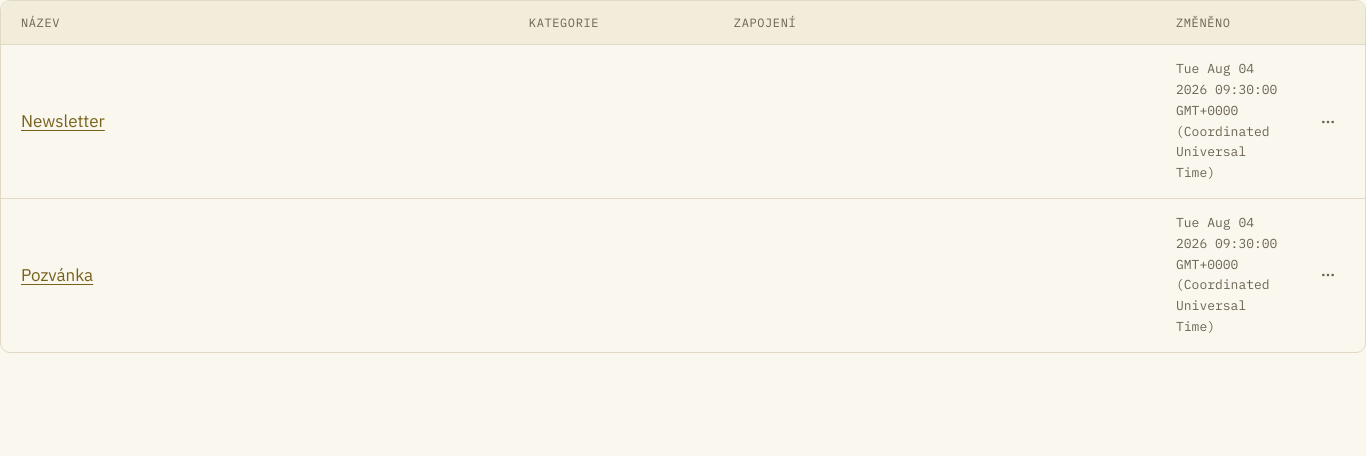
nabídka „…" v řádku knihovny › neúspěšná kopie řekne důvod na obrazovce a nikam neodchází
Click the button named "Další akce se šablonou". click: x=1328, y=122
box: [1311,105,1345,139]
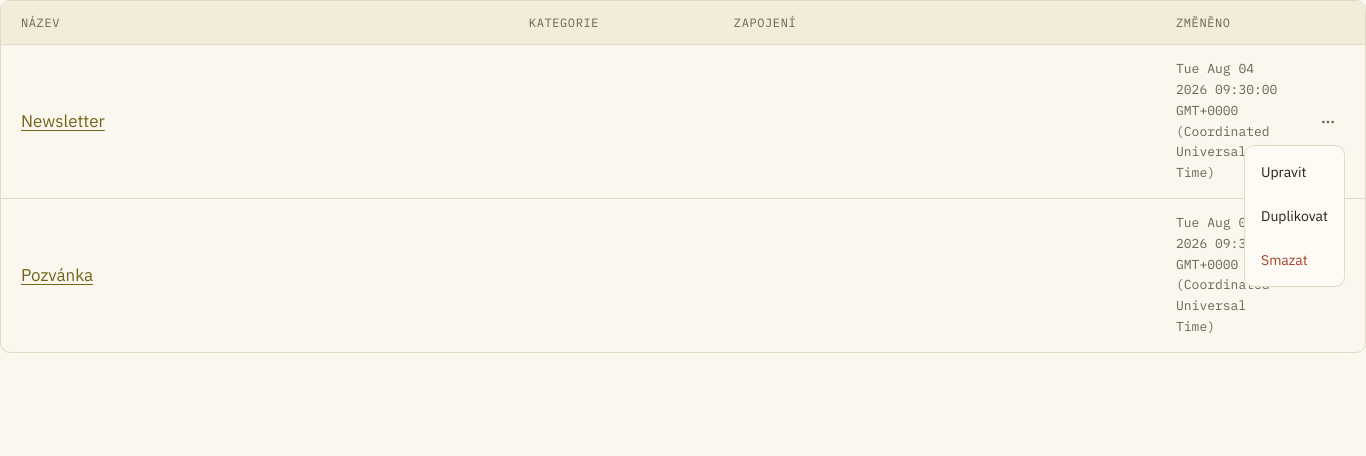
Click the menu item "Duplikovat". click: x=1294, y=216
box: [1261,207,1328,225]
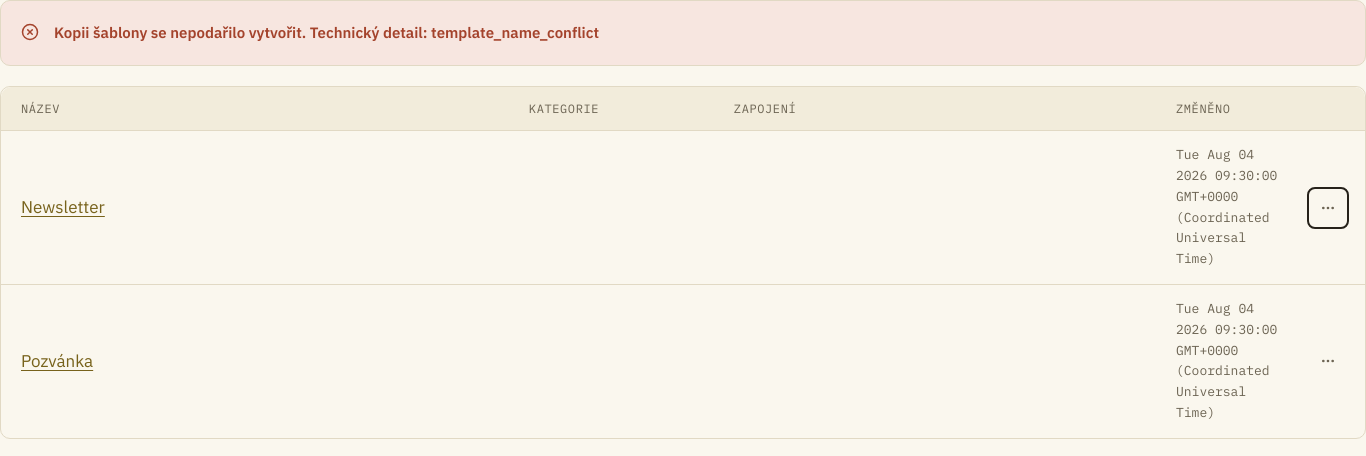
Result: the message with test id "template-delete-failed" shows "template_name_conflict" at [54,23,599,42]
